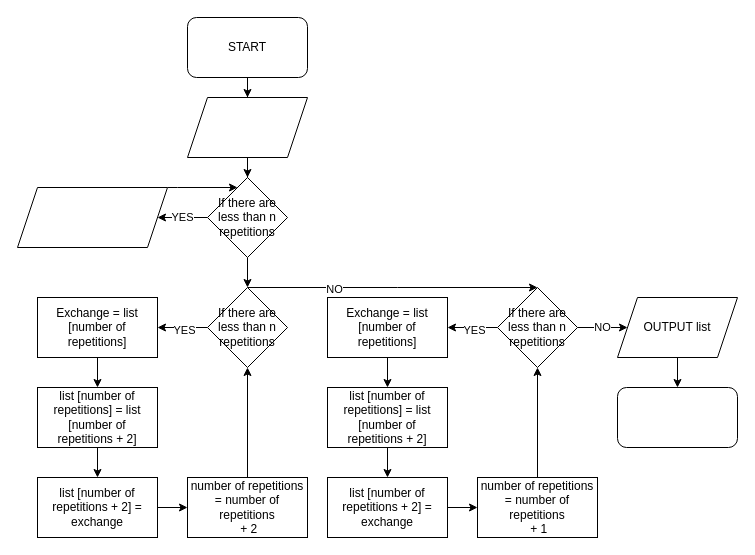
Image size: 755x555. Some labels were removed from this diagram. The shapes that lost their labels are listed below. From the top down, each one's centre as x and y in pixels, then its label:
(x=247, y=127): INPUT N
(x=92, y=217): Input value into list
(x=677, y=417): END
